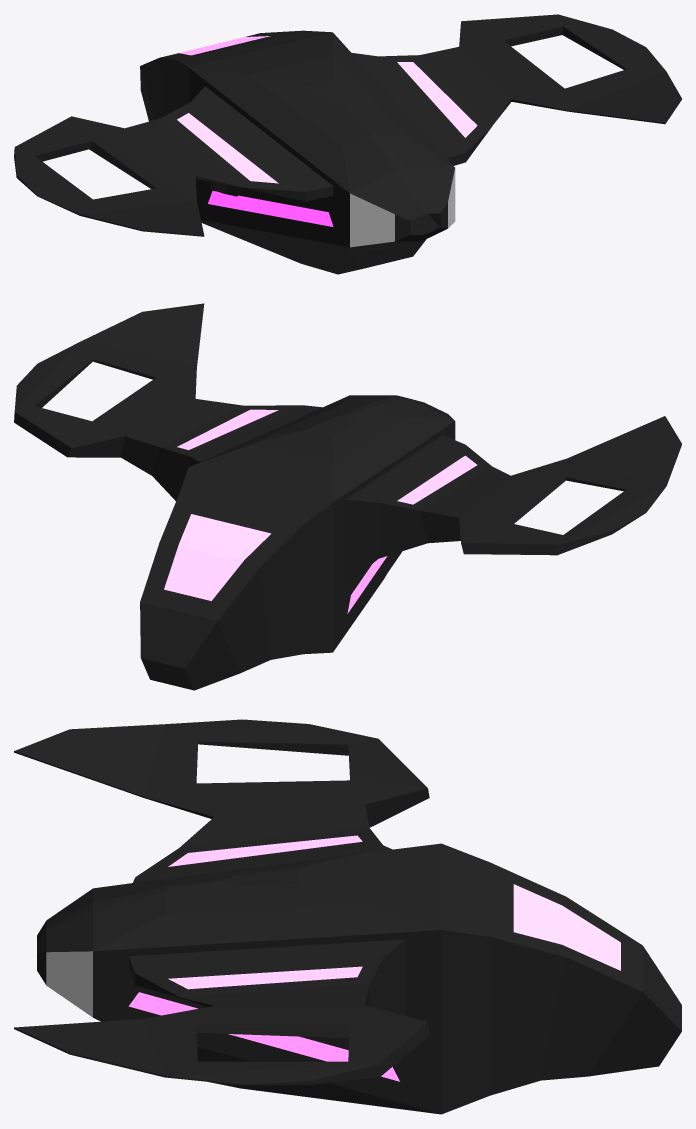
Rendered from spaceship.glb.
The picture shows the model from 3 angles, top to bottom: view 1: azimuth 30°, elevation 25°; view 2: azimuth 150°, elevation 25°; view 3: azimuth 270°, elevation 25°; orthographic projection. The views are drawn at different scales.
Visible parts, largest first — view 1: Cube; view 2: Cube; view 3: Cube.
Part boxes in pixels (x1,y1,x2,y2): Cube: (14, 14, 681, 274); Cube: (14, 303, 681, 690); Cube: (14, 719, 681, 1114).
Bounding box in the file's own units: 3.11 × 0.7769 × 2.4.
Materials: 2 (1 with a texture image).
